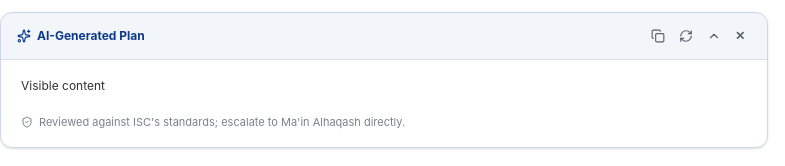
Scenario: AIPlanPanel — result panel controls (authenticated) › Expand button reveals content again after collapse
The image size is (785, 166).
Click the button titled "Collapse".
click(714, 36)  # box [701, 23, 727, 49]
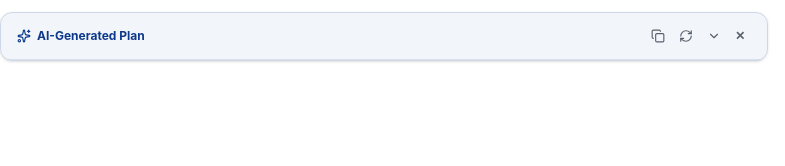
Check: the text "Visible content" is gone
Click the button titled "Expand".
click(714, 36)  # box [701, 23, 727, 49]
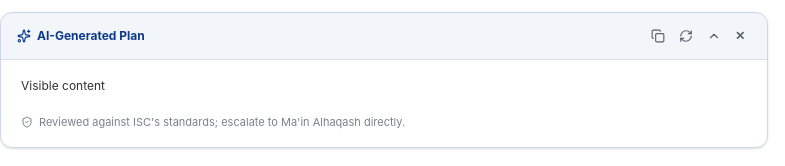
Check: the text "Visible content" is shown, box [21, 78, 105, 93]
